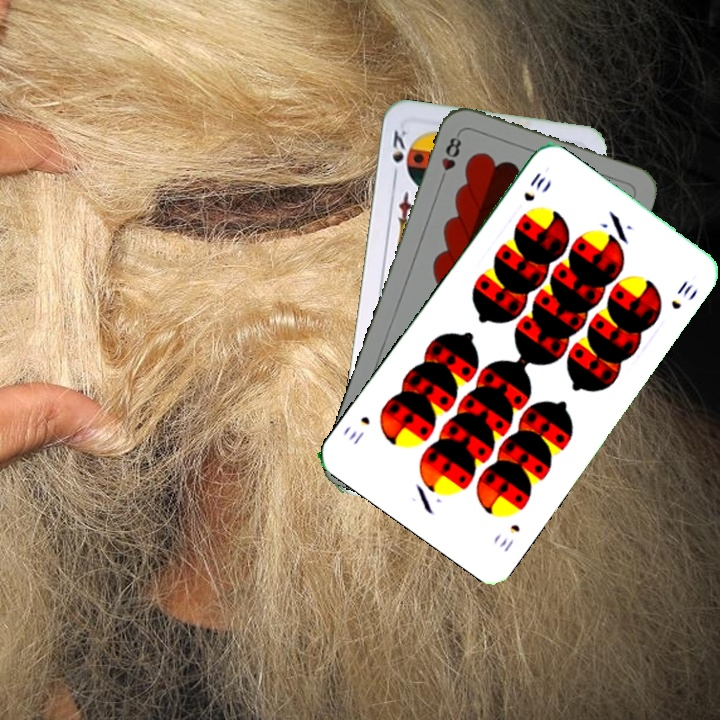H8: (436, 129, 464, 186)
S10: (519, 168, 548, 205), (494, 520, 523, 555)
SK: (388, 126, 413, 183)
